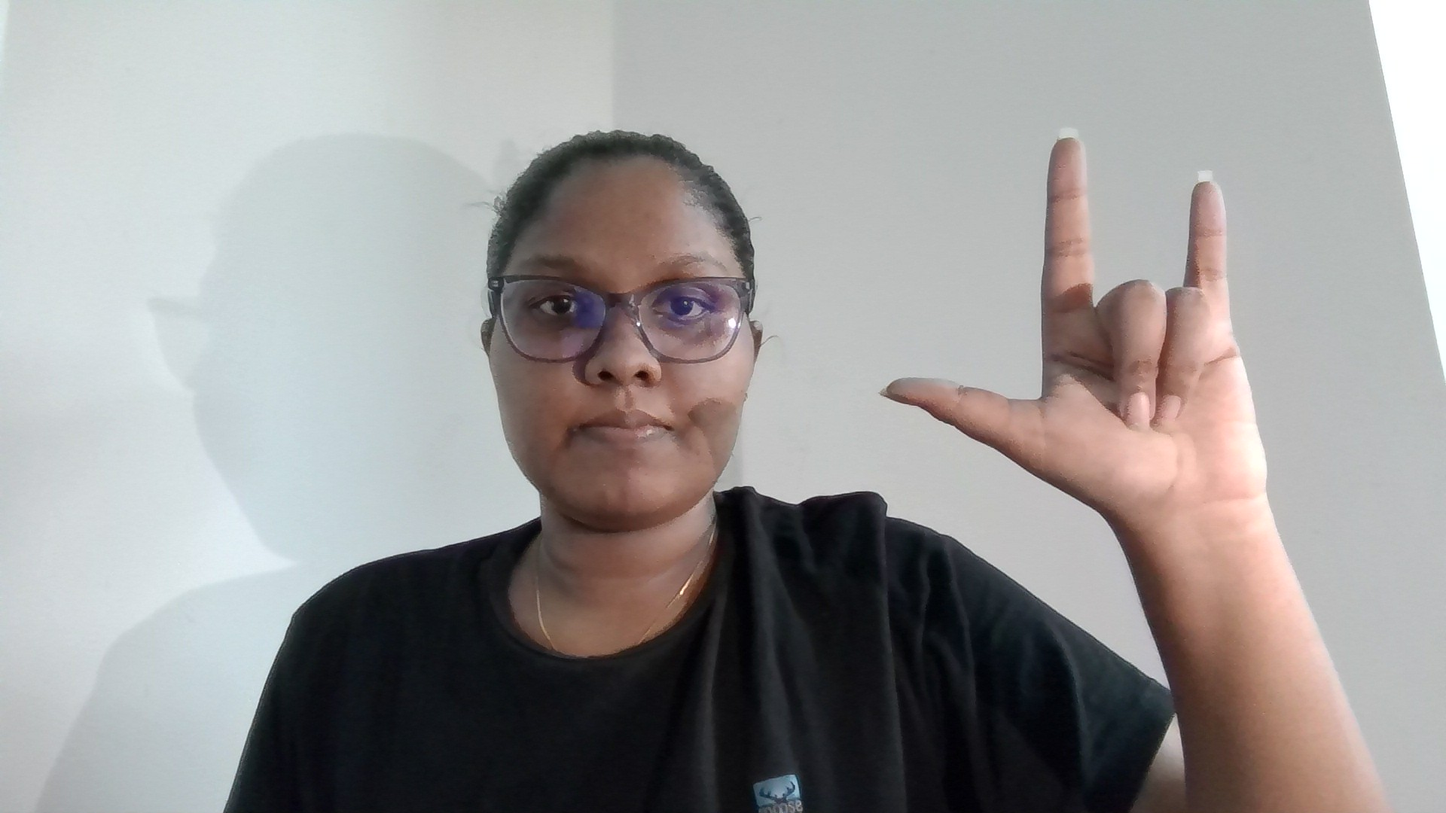I Love You: (860, 42, 1349, 635)
